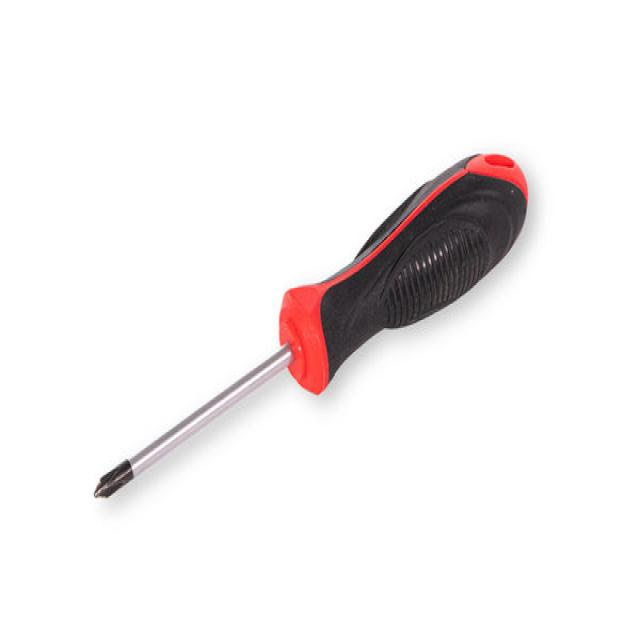Screwdriver: (95, 154, 528, 497)
